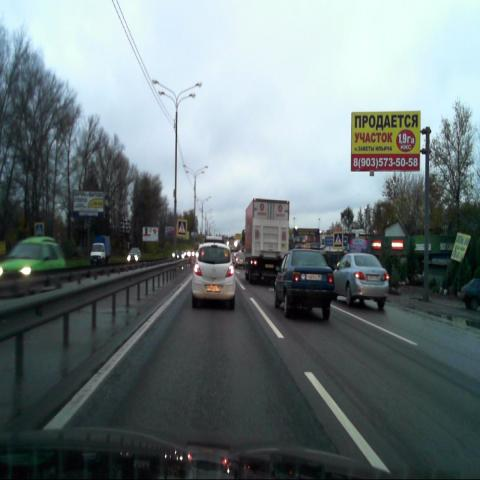5_19_1: (176, 218, 186, 236), (333, 231, 343, 248), (35, 222, 44, 237)
